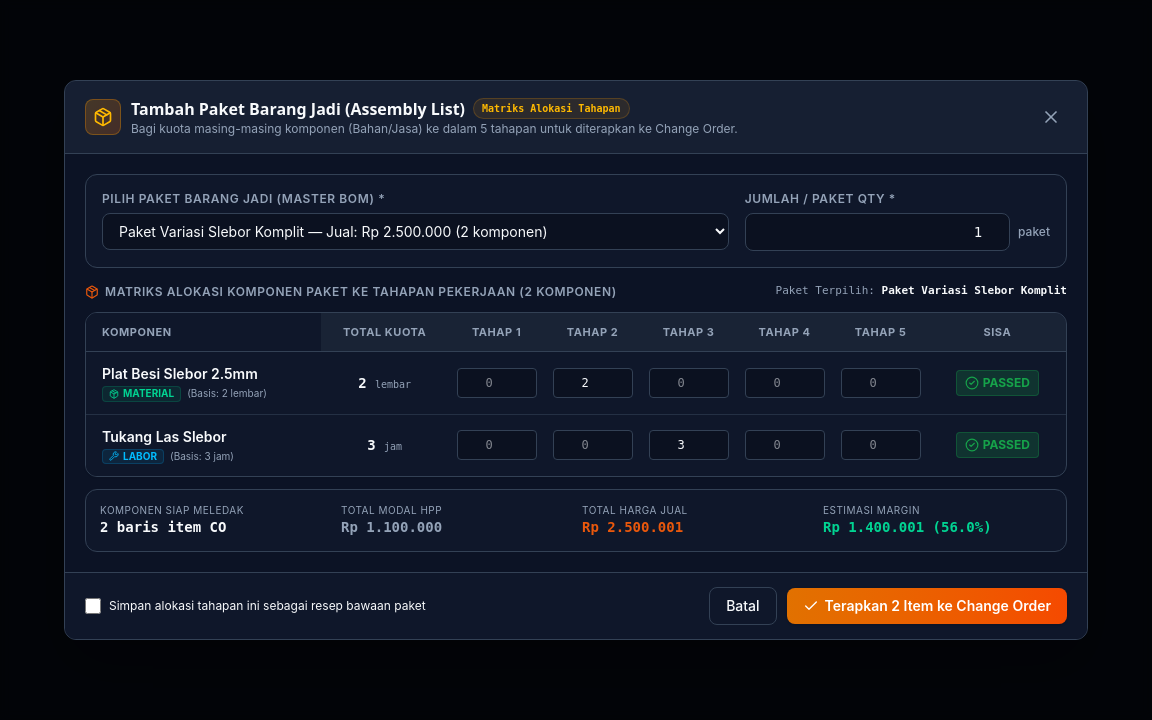
Component: ChangeOrderPackageModal (Per-Component WBS Allocation Matrix) › updates total quota and scales allocations when package multiplier changes
Replace the text in the number field labelled "Jumlah / Paket Qty *" with "2" at (877, 232), box [745,213,1010,251]
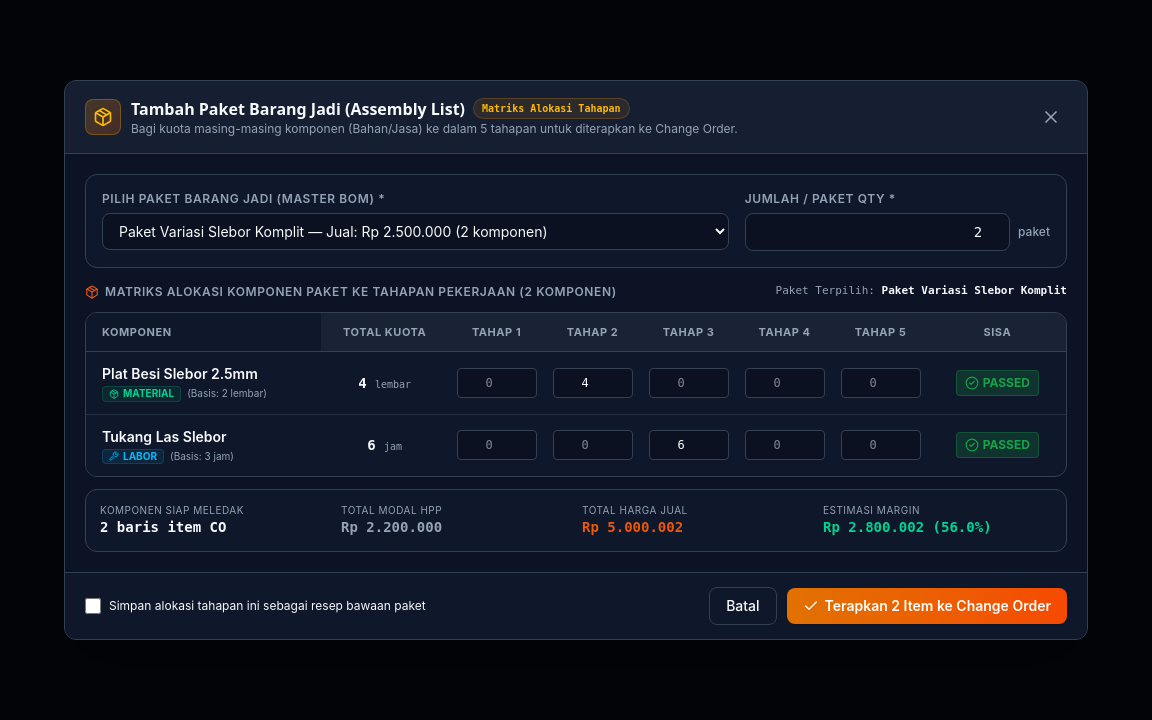
Expected: the text "4" is shown, [358,375,366,391]
Expected: the text "6" is shown, [367,437,376,453]
Expected: the number field named "Plat Besi Slebor 2.5mm Tahap 2" holds "4", [553,368,633,398]
